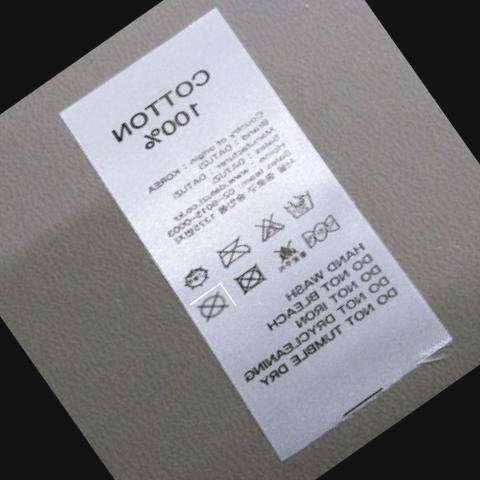DN_dry_clean: (188, 287, 231, 323)
DN_iron: (214, 236, 253, 265)
DN_tumble_dry: (231, 265, 267, 292)
hand_wash: (282, 191, 314, 220)
line_dry_in_shade: (177, 263, 209, 291)
non_chlorine_bleach: (252, 216, 285, 241)
wring: (302, 214, 343, 249)
